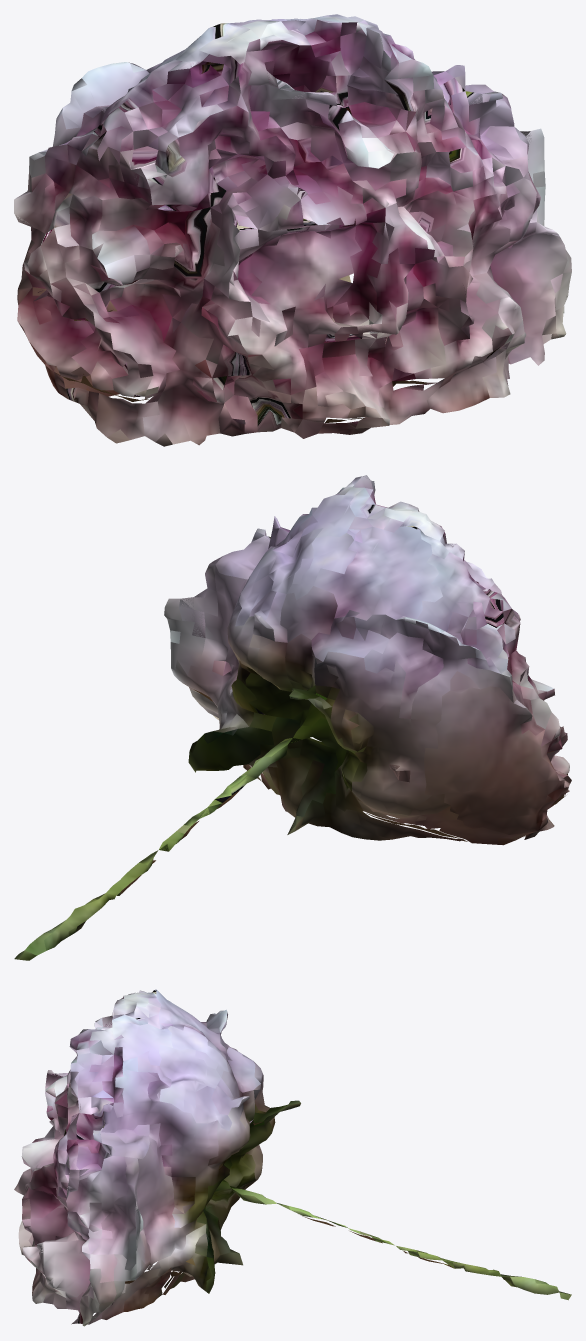
The picture shows the model from 3 angles, top to bottom: view 1: azimuth 30°, elevation 25°; view 2: azimuth 150°, elevation 25°; view 3: azimuth 270°, elevation 25°; orthographic projection. The views are drawn at different scales.
Visible parts, largest first — view 1: 4a90c5fa; view 2: 4a90c5fa; view 3: 4a90c5fa.
Boxes of the visible parts, box(x1,y1,x2,y2) form: 4a90c5fa: box(14, 14, 571, 446); 4a90c5fa: box(14, 475, 571, 960); 4a90c5fa: box(14, 989, 571, 1326).
Bounding box in the file's own units: 0.0941 × 0.0646 × 0.1308.
Materials: 2 (2 with a texture image).
